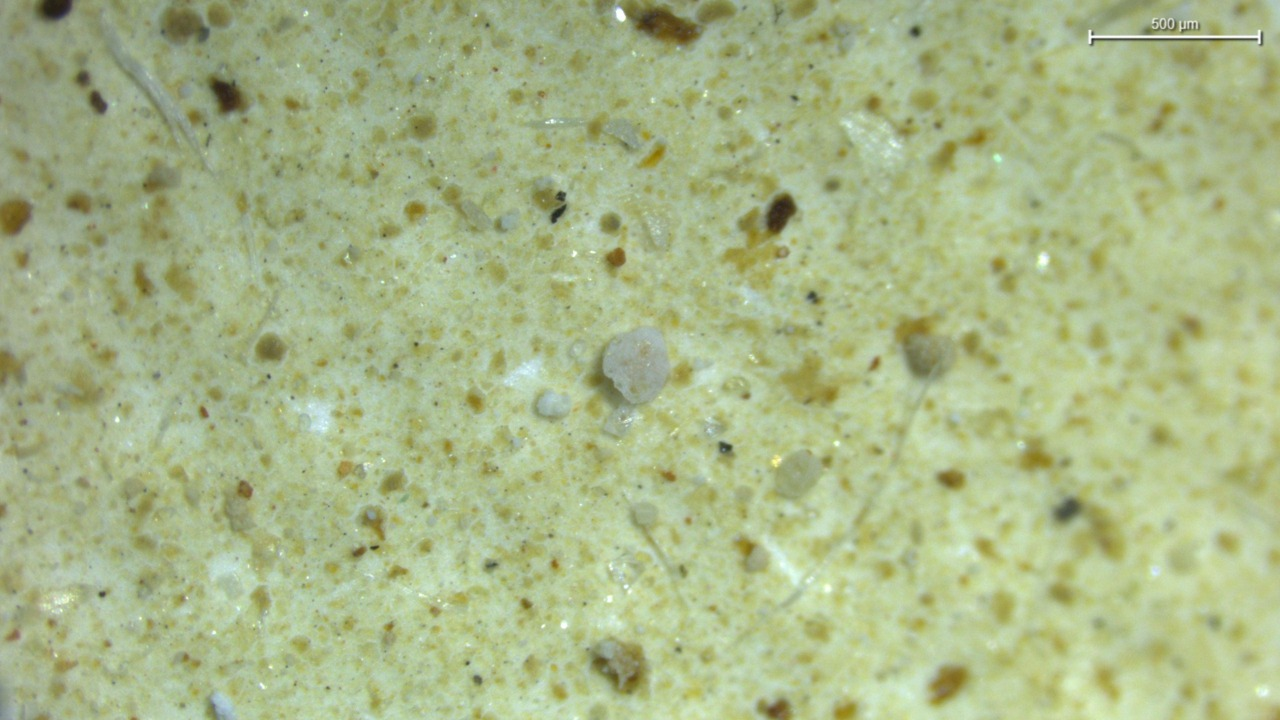microplastic_fragment: (602, 327, 669, 404), (775, 449, 823, 499), (604, 119, 643, 150), (534, 389, 571, 419), (461, 200, 492, 230), (495, 210, 519, 231)
